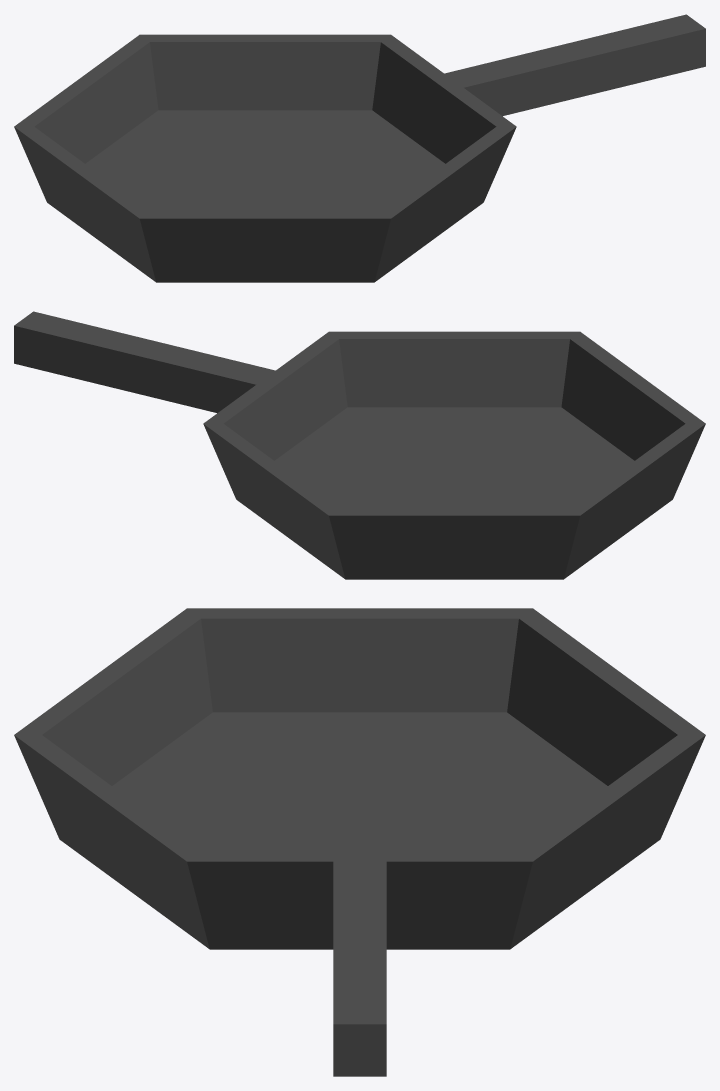
The model's file is Skillet.fbx.
3 renders of one model, top to bottom at view 1: azimuth 30°, elevation 25°; view 2: azimuth 150°, elevation 25°; view 3: azimuth 270°, elevation 25°, orthographic. The views are drawn at different scales.
Visible parts, largest first — view 1: Skillet; view 2: Skillet; view 3: Skillet.
Part boxes in pixels (left/top/right/bottom): Skillet: left=14, top=14, right=705, bottom=282; Skillet: left=14, top=311, right=705, bottom=579; Skillet: left=14, top=608, right=705, bottom=1076.
Size of the model in its own units: 42.68 by 5 by 30.
Materials: 1 (1 with a texture image).
